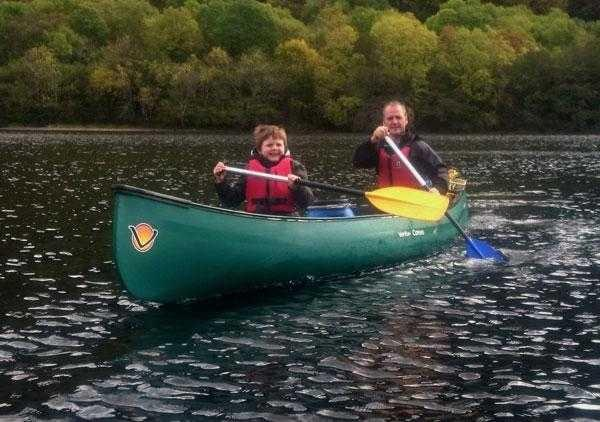kayak: (110, 182, 472, 307)
